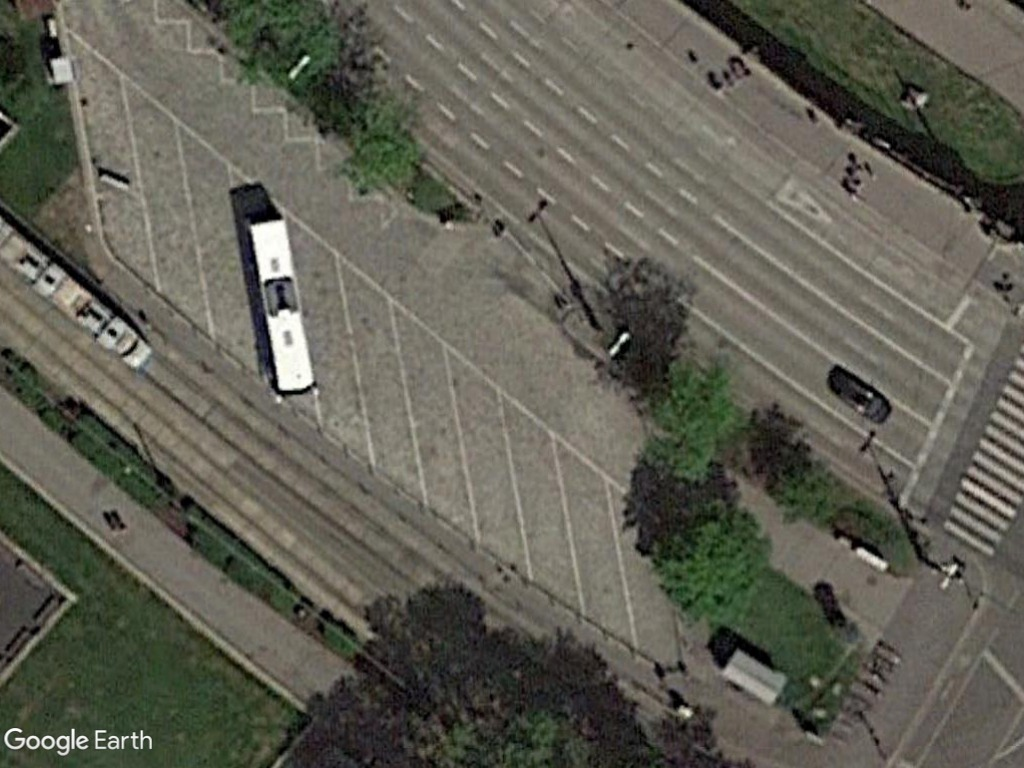bus: (242, 211, 319, 398)
